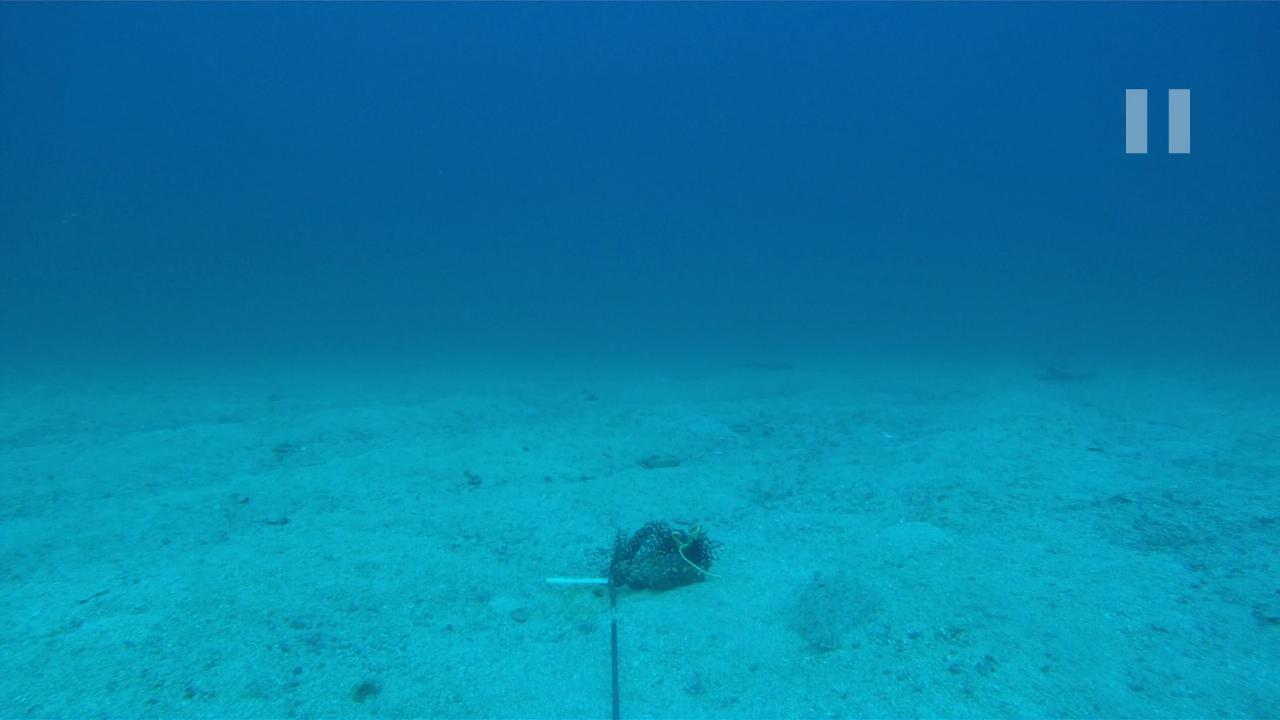bothus: (781, 564, 886, 652)
